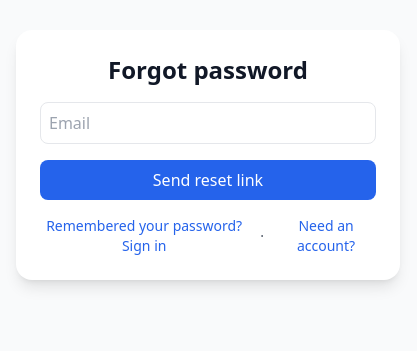
Test: ForgotPasswordPage › submits email and displays demo token in debug mode
Type "user@example.com" into the field with placeholder "Email" at [208, 123], box [40, 102, 376, 144]
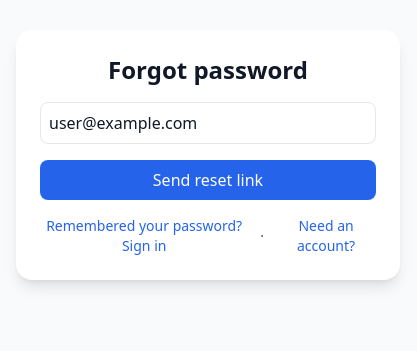
Click the button "Send reset link" at [208, 180], box [40, 160, 376, 200]
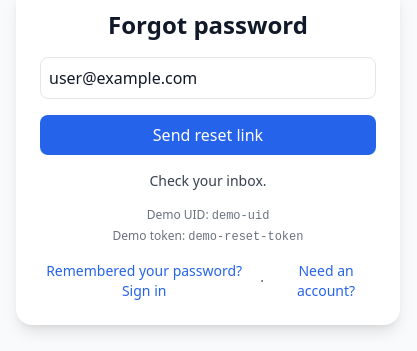
Result: the text "Check your inbox." is shown at [149, 171, 266, 190]
Result: the text "demo-reset-token" is shown at [188, 230, 303, 244]
